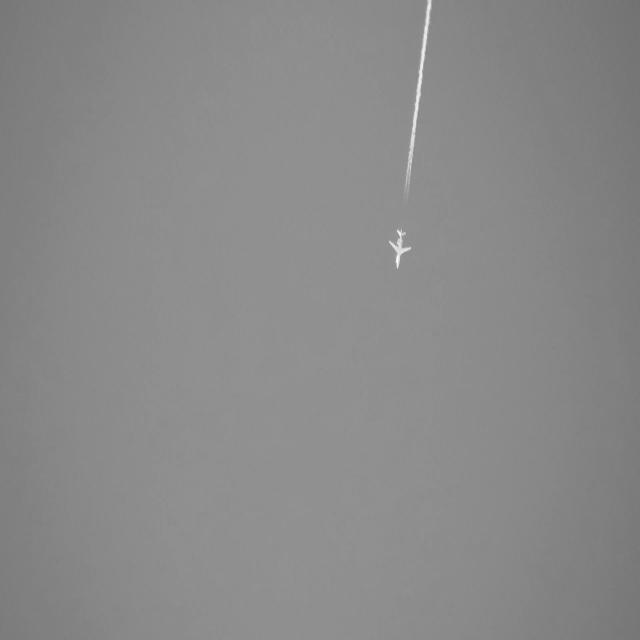aeroplane: (386, 225, 413, 276)
